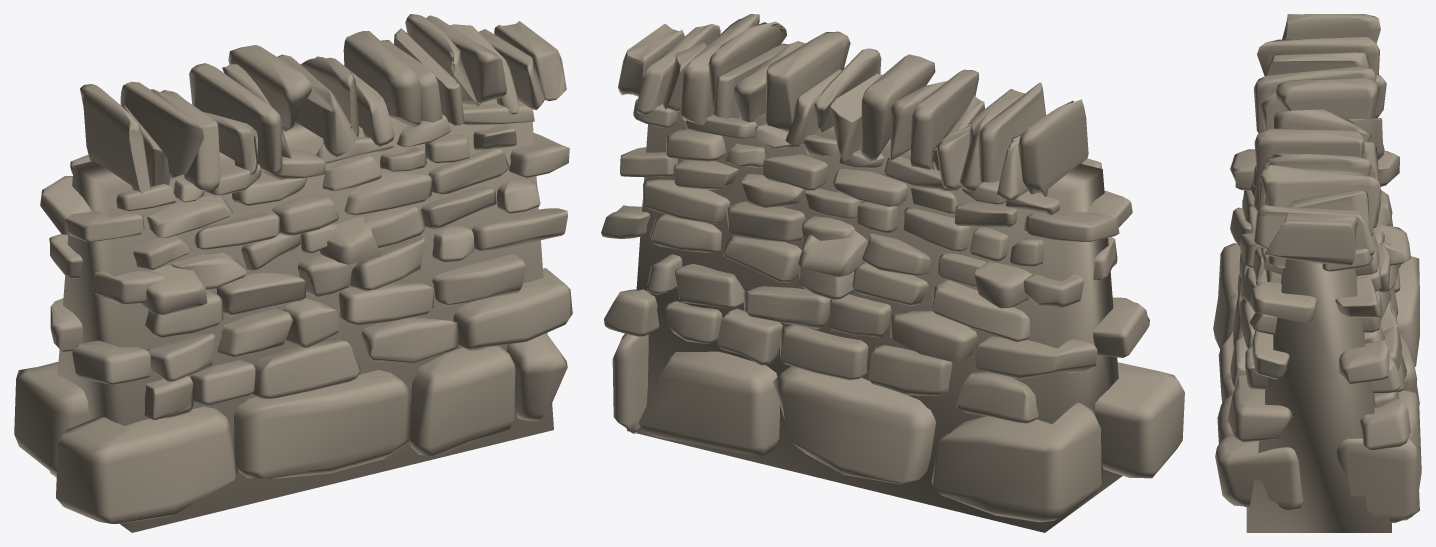
Rendered from boundary.dry_stone.wall_a.glb.
3 renders of one model, left to right at view 1: azimuth 30°, elevation 25°; view 2: azimuth 150°, elevation 25°; view 3: azimuth 270°, elevation 25°, orthographic. The views are drawn at different scales.
Visible parts, largest first — view 1: main__stone_a98; view 2: main__stone_a98; view 3: main__stone_a98.
Part boxes in pixels (x1,y1,x2,y2): main__stone_a98: [14, 14, 572, 532]; main__stone_a98: [601, 14, 1184, 532]; main__stone_a98: [1213, 14, 1421, 532].
Size of the model in its own units: 2.35 by 1.75 by 0.9457.
